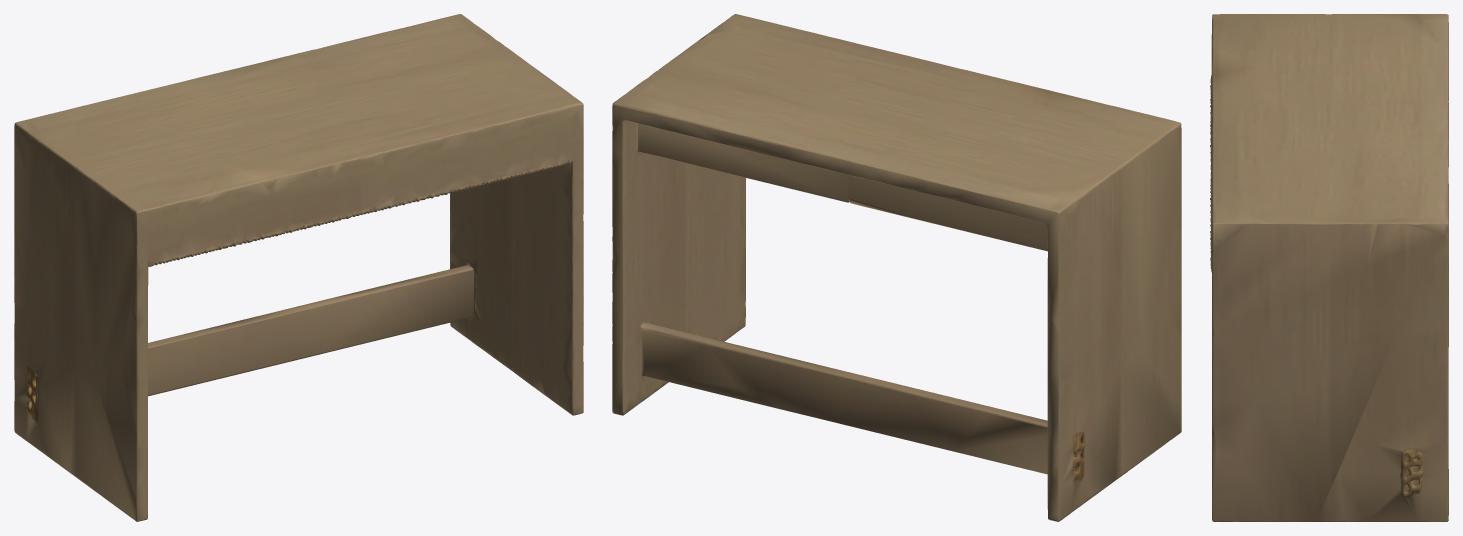
File: fm_desk_oak.glb
The picture shows the model from 3 angles, left to right: view 1: azimuth 30°, elevation 25°; view 2: azimuth 150°, elevation 25°; view 3: azimuth 270°, elevation 25°; orthographic projection. The views are drawn at different scales.
Visible parts, largest first — view 1: world; view 2: world; view 3: world.
Boxes of the visible parts, x1,y1,x2,y2 form: world: [14, 14, 583, 521]; world: [612, 14, 1181, 521]; world: [1210, 14, 1448, 521].
Bounding box in the file's own units: 1.2 × 0.7883 × 0.57.
Materials: 1 (1 with a texture image).
